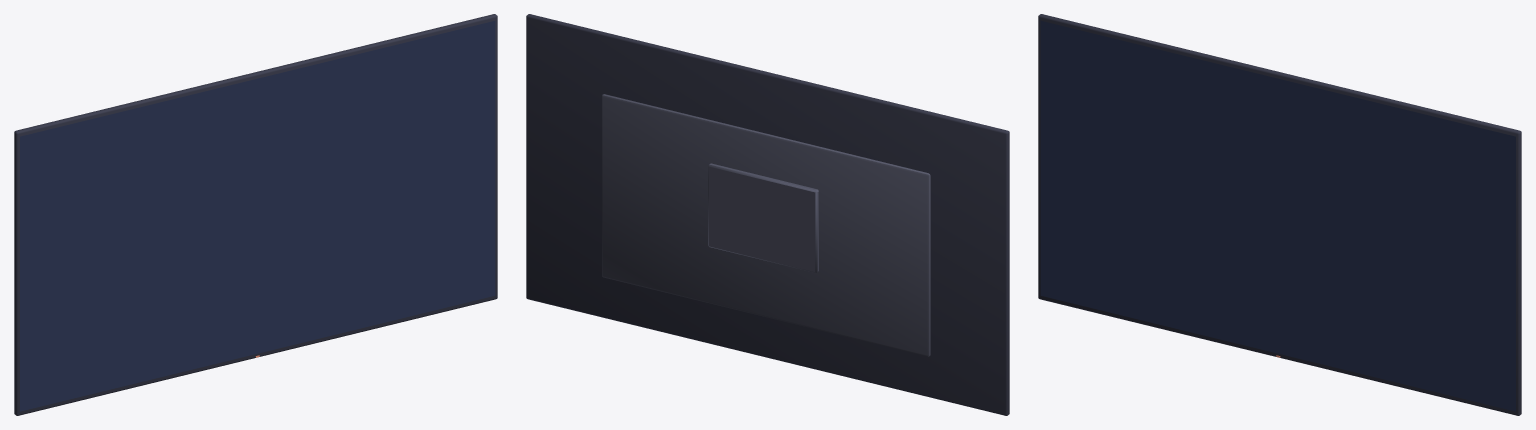
3 renders of one model, left to right at view 1: azimuth 30°, elevation 25°; view 2: azimuth 150°, elevation 25°; view 3: azimuth 330°, elevation 25°, orthographic.
Visible parts, largest first — view 1: screen, charcoal; view 2: charcoal, slate; view 3: screen, charcoal.
Part boxes in pixels (x1=…): screen: x1=20, y1=21, x2=495, y2=411; charcoal: x1=14, y1=14, x2=497, y2=415; charcoal: x1=526, y1=14, x2=1009, y2=415; slate: x1=602, y1=94, x2=930, y2=356; screen: x1=1040, y1=21, x2=1515, y2=411; charcoal: x1=1038, y1=14, x2=1521, y2=415.
Bounding box in the file's own units: 2.2 × 1.24 × 0.0625.
